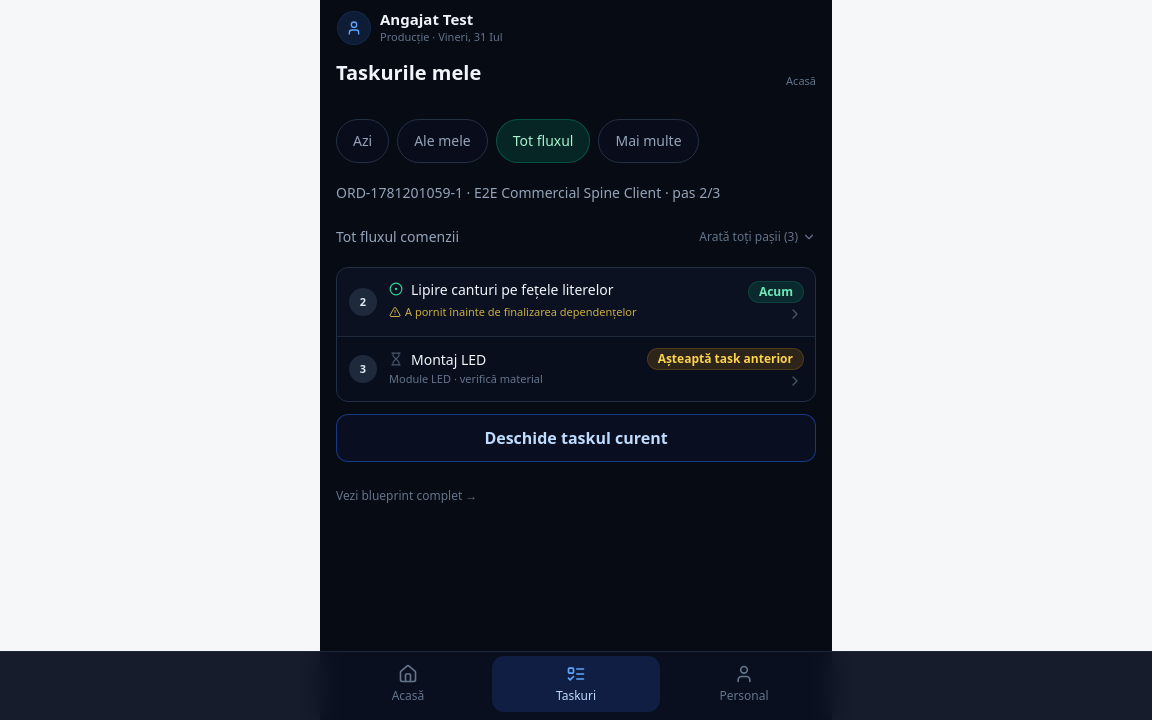
Test: EmployeeMobileApp shell › renders full order flow with active order card and numbered steps
expect the list with test id "employee-mobile-pipeline-task-list" is shown: met, box left=336, top=267, right=816, bottom=402
expect the text with test id "employee-mobile-pipeline-task-number-T-004" reads "2": met, box left=360, top=294, right=366, bottom=309
Click the button with test id "employee-mobile-pipeline-expand-toggle".
click(758, 237)  # box left=699, top=215, right=816, bottom=259
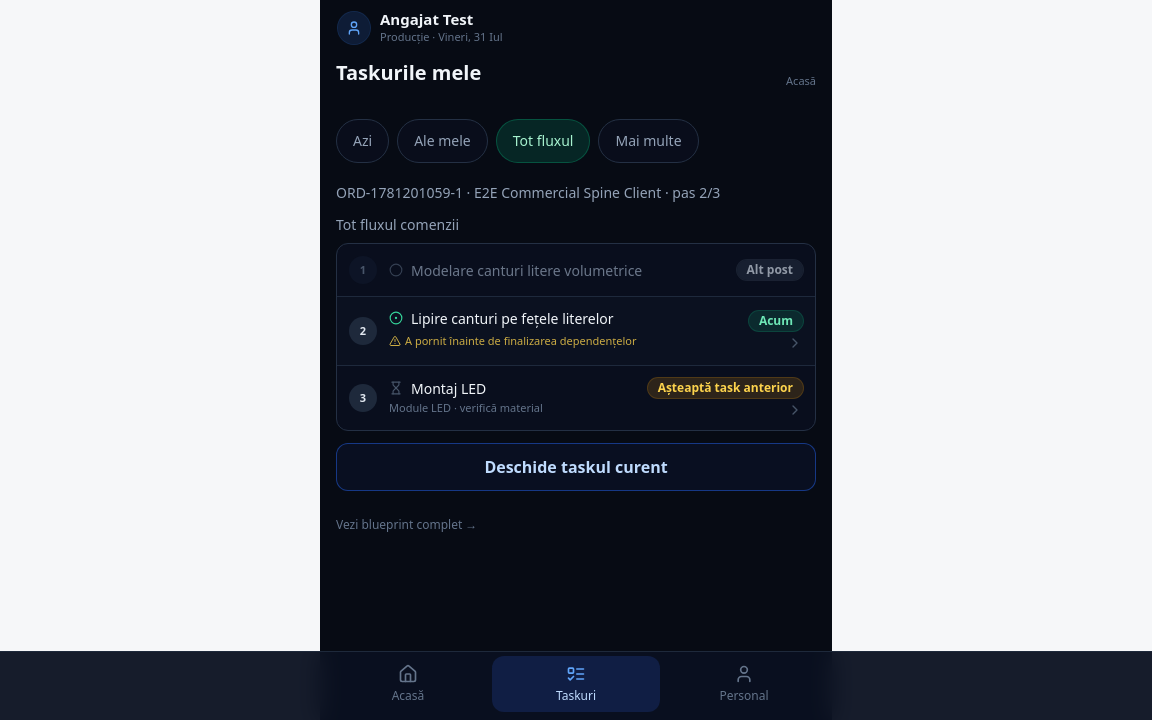
expect the button with test id "employee-mobile-tasks-tab-pipeline" is shown: met, box left=496, top=119, right=590, bottom=163
expect the list item with test id "employee-mobile-pipeline-task-T-003" shows "Alt post": met, box left=337, top=244, right=815, bottom=296
